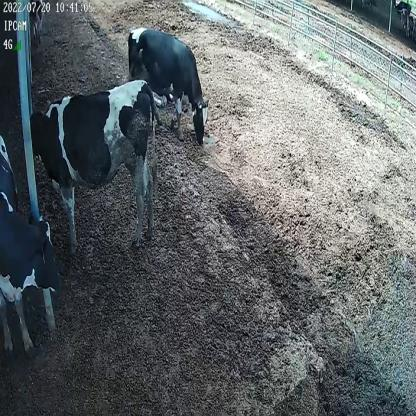cow: (25, 78, 160, 250), (0, 126, 64, 362), (125, 26, 211, 148)
